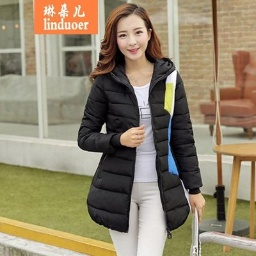face: (96, 4, 169, 67)
